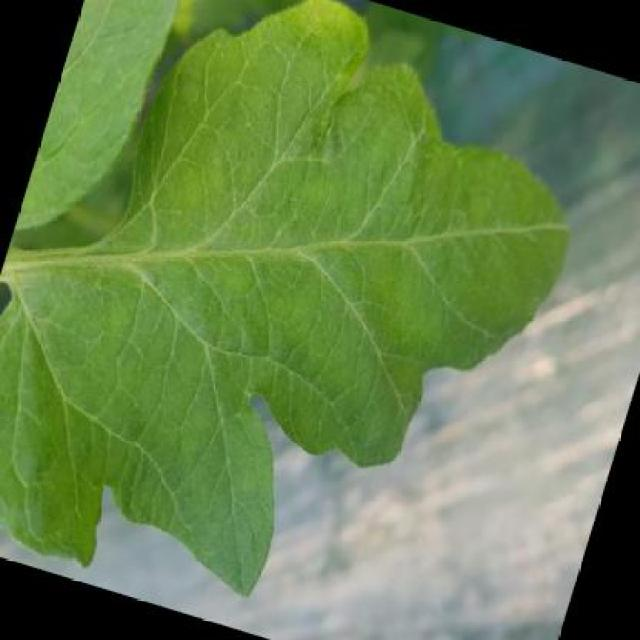Healthy Leaf: (0, 10, 612, 595)
